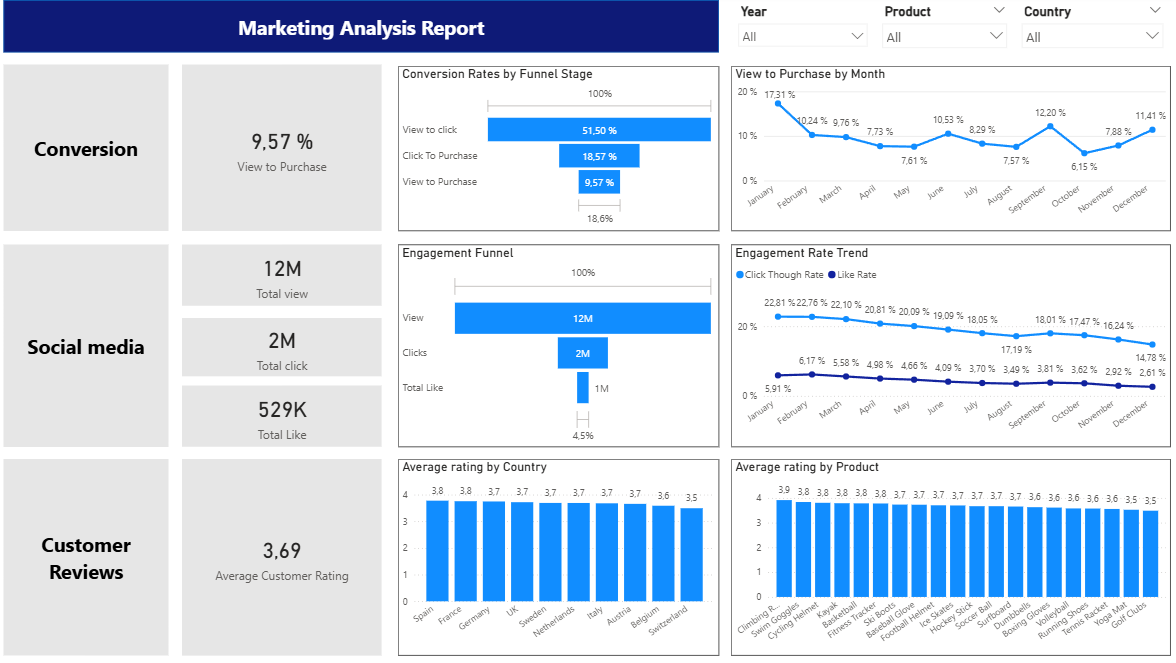

What the dashboard file says about the page in this screenshot:
{"tool":"powerbi","page":{"name":"Overview","canvas":[1600,900],"ordinal":0},"visuals":[{"type":"shape","box":[10.1,0,865.8,70.9],"z":0},{"type":"slicer","fields":{"Values":["Date.Year"]},"box":[898.7,0,222.6,70.8],"z":1000},{"type":"slicer","fields":{"Values":["products.ProductName"]},"box":[1135.5,0,224.7,70.8],"z":2000},{"type":"slicer","fields":{"Values":["geography.Country"]},"box":[1360.2,0,224.7,87],"z":3000},{"type":"shape","box":[10.1,87,222.6,224.7],"z":4000},{"type":"card","fields":{"Values":["Calculations.Conversion Rate"]},"box":[251,87,269.2,224.7],"z":5000},{"type":"funnel","title":"Conversion Rates by Funnel Stage","fields":{"Y":["Calculations.Click rate","Calculations.Purchase rate","Calculations.Conversion Rate"]},"box":[542.4,89.1,433.1,222.6],"z":6000},{"type":"lineChart","fields":{"Category":["Date.Month"],"Y":["Calculations.View to Purchase"]},"box":[991.8,89.1,593,222.6],"z":7000},{"type":"shape","box":[10.1,329.9,222.6,273.2],"z":8000},{"type":"card","fields":{"Values":["Calculations.Total click"]},"box":[251,524.2,269.2,78.9],"z":9000},{"type":"card","fields":{"Values":["Calculations.Total Like"]},"box":[251,427.1,269.2,83],"z":9001},{"type":"card","fields":{"Values":["Calculations.Total view"]},"box":[251,329.9,269.2,83],"z":9002},{"type":"funnel","title":"Engagement Funnel","fields":{"Y":["Calculations.Total view","Calculations.Total click","Calculations.Total Like"]},"box":[542.4,329.9,433.1,273.2],"z":9003},{"type":"shape","box":[10.1,619.4,222.6,265.1],"z":9005},{"type":"card","fields":{"Values":["Calculations.Average rating"]},"box":[251,619.4,269.2,265.1],"z":9006},{"type":"clusteredColumnChart","title":"Average rating by Product","fields":{"Category":["products.ProductName"],"Y":["Calculations.Average rating"]},"box":[991.8,619.4,593,265.1],"z":9008},{"type":"lineChart","title":"Engagement Rate Trend","fields":{"Category":["Date.Month"],"Y":["Calculations.Click Though Rate","Calculations.Like Rate"]},"box":[991.8,329.9,593,273.2],"z":9009},{"type":"clusteredColumnChart","fields":{"Category":["geography.Country"],"Y":["Calculations.Average rating"]},"box":[542,619,433,265],"z":9010}]}

Visuals, with their boxes in screenshot pixels (x1, y1, x2, y2), scaled from the page's 1600x900 canvas onto the 1176x663 screenshot:
shape: bbox(7, 0, 644, 52)
slicer - Date.Year: bbox(661, 0, 824, 52)
slicer - products.ProductName: bbox(835, 0, 1000, 52)
slicer - geography.Country: bbox(1000, 0, 1165, 64)
shape: bbox(7, 64, 171, 230)
card - Calculations.Conversion Rate: bbox(184, 64, 382, 230)
"Conversion Rates by Funnel Stage" funnel: bbox(399, 66, 717, 230)
lineChart - Date.Month x Calculations.View to Purchase: bbox(729, 66, 1165, 230)
shape: bbox(7, 243, 171, 444)
card - Calculations.Total click: bbox(184, 386, 382, 444)
card - Calculations.Total Like: bbox(184, 315, 382, 376)
card - Calculations.Total view: bbox(184, 243, 382, 304)
"Engagement Funnel" funnel: bbox(399, 243, 717, 444)
shape: bbox(7, 456, 171, 652)
card - Calculations.Average rating: bbox(184, 456, 382, 652)
"Average rating by Product" clusteredColumnChart: bbox(729, 456, 1165, 652)
"Engagement Rate Trend" lineChart: bbox(729, 243, 1165, 444)
clusteredColumnChart - geography.Country x Calculations.Average rating: bbox(398, 456, 717, 651)
